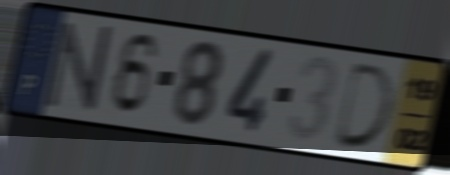3: (285, 53, 344, 147)
4: (222, 44, 278, 139)
6: (108, 30, 161, 119)
8: (169, 38, 225, 130)
D: (330, 60, 399, 152)
N: (44, 20, 115, 114)
